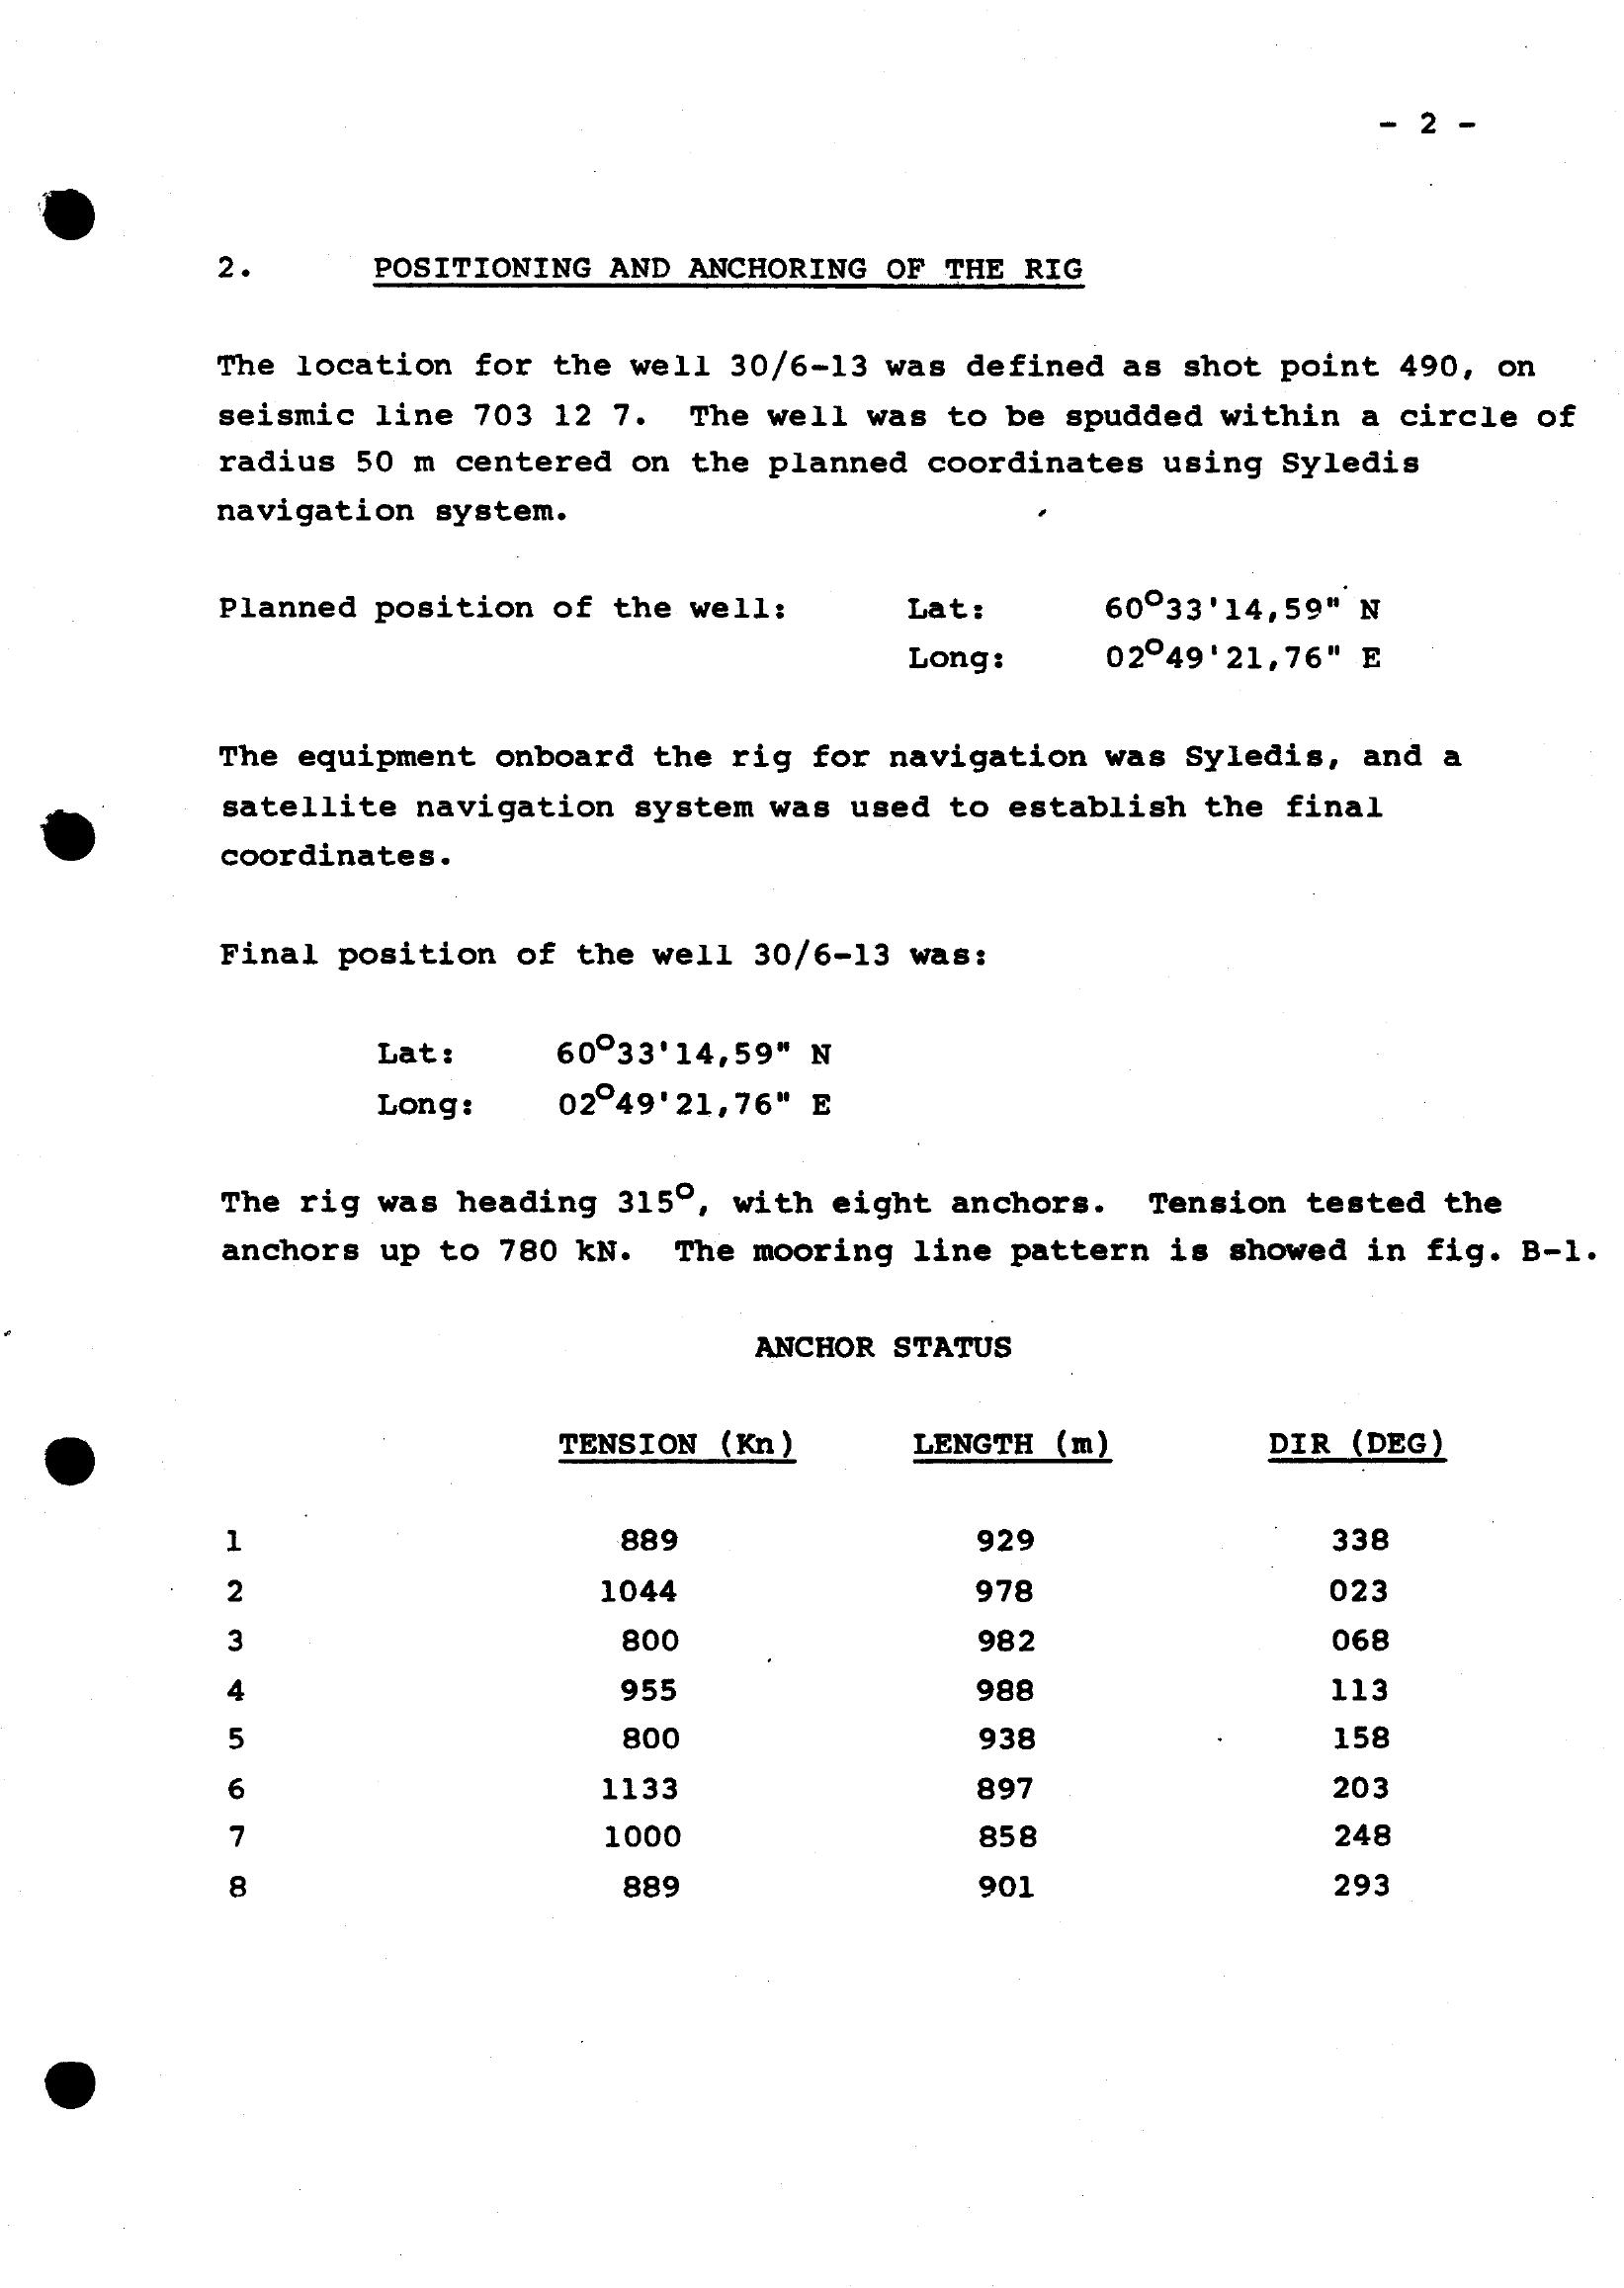table: (149, 1320, 1513, 1982)
text: (144, 225, 1620, 1309)
